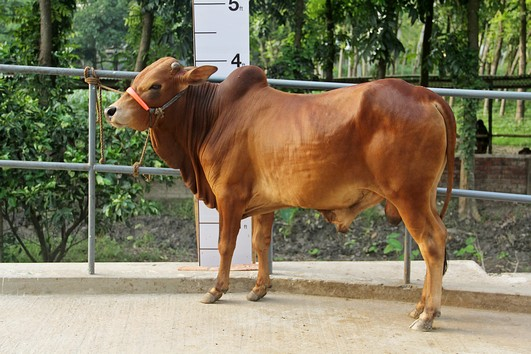cow: (97, 52, 459, 335)
